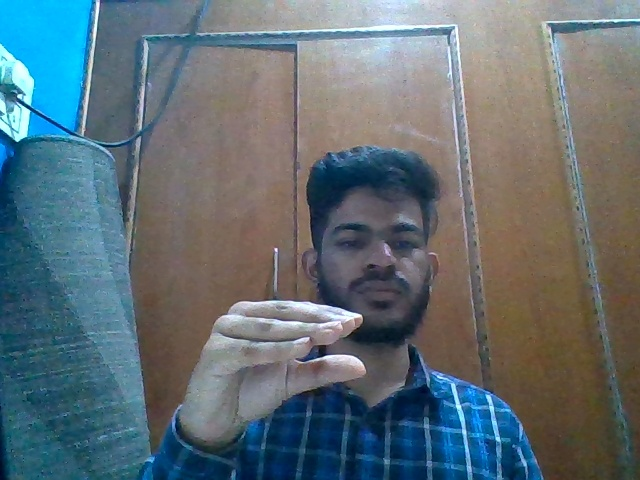no: (178, 296, 370, 438)
